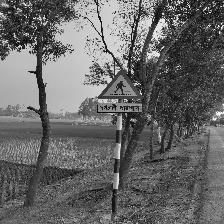Pedestrian-crossing: (95, 68, 144, 116)
